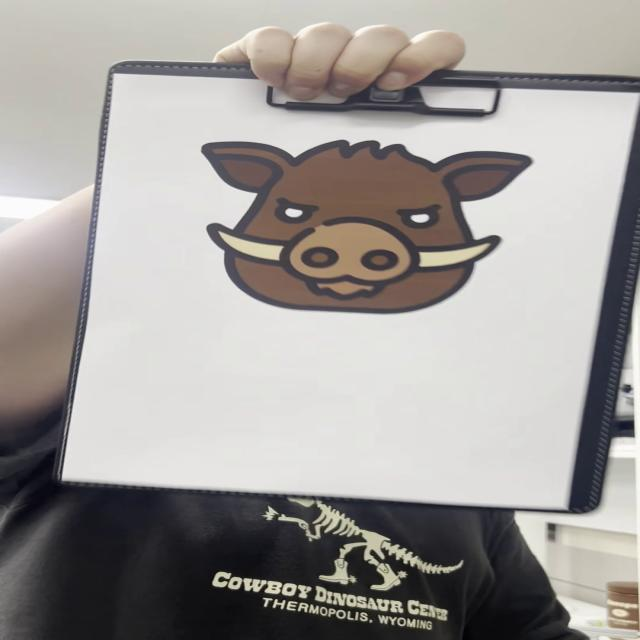animal: (199, 139, 536, 316)
